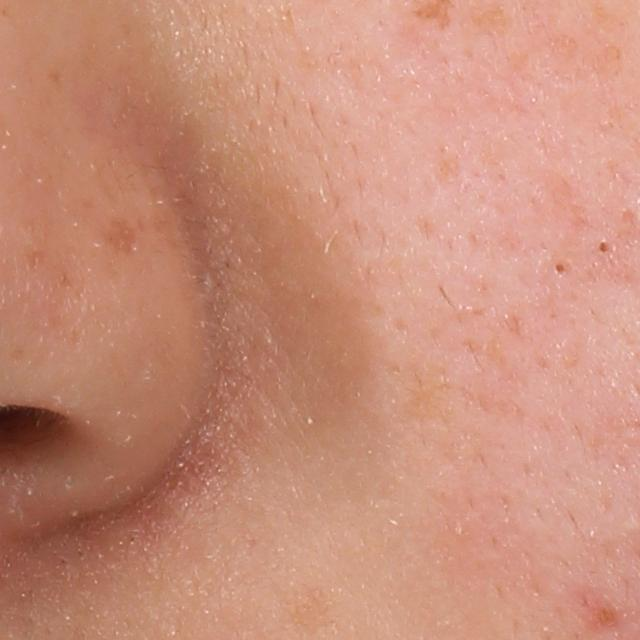comedo: (546, 257, 571, 281), (593, 236, 616, 262)
melasma: (100, 217, 140, 257)
